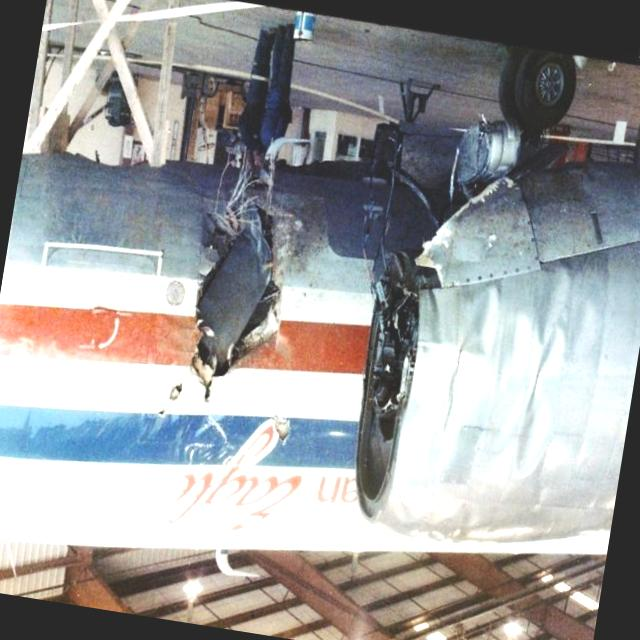dent: (430, 244, 610, 487)
